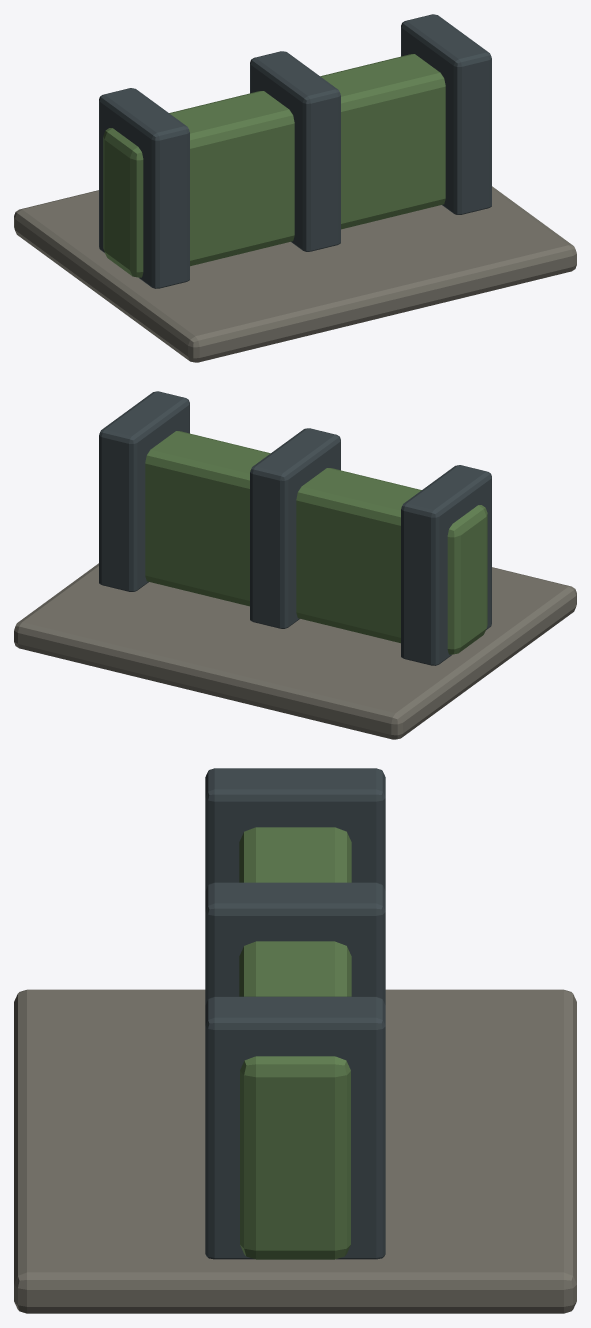
File: human_wall.glb
The picture shows the model from 3 angles, top to bottom: view 1: azimuth 30°, elevation 25°; view 2: azimuth 150°, elevation 25°; view 3: azimuth 270°, elevation 25°; orthographic projection. The views are drawn at different scales.
Parts seen in each view (by area): view 1: Foundation, Wall, Buttress, Buttress.001, Buttress.002; view 2: Foundation, Wall, Buttress, Buttress.001, Buttress.002; view 3: Foundation, Wall, Buttress.002, Buttress.001, Buttress.
Part boxes in pixels (left/top/right/bottom): Foundation: left=14, top=186, right=576, bottom=362; Wall: left=103, top=54, right=445, bottom=277; Buttress: left=99, top=88, right=189, bottom=288; Buttress.001: left=250, top=51, right=340, bottom=251; Buttress.002: left=401, top=14, right=491, bottom=214; Foundation: left=14, top=563, right=576, bottom=739; Wall: left=145, top=431, right=487, bottom=654; Buttress: left=401, top=465, right=491, bottom=665; Buttress.001: left=250, top=428, right=340, bottom=628; Buttress.002: left=99, top=391, right=189, bottom=591; Foundation: left=14, top=989, right=576, bottom=1313; Wall: left=239, top=827, right=351, bottom=1259; Buttress.002: left=205, top=996, right=385, bottom=1259; Buttress.001: left=205, top=882, right=385, bottom=1004; Buttress: left=205, top=768, right=385, bottom=890.
Size of the model in its own units: 1.85 by 0.82 by 1.5.
